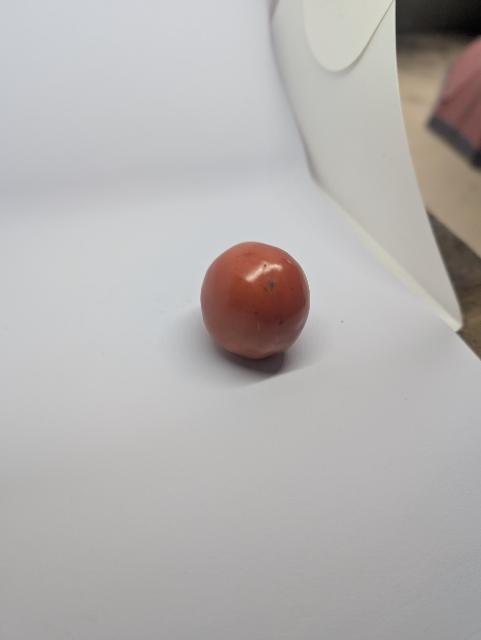red: (193, 231, 325, 366)
